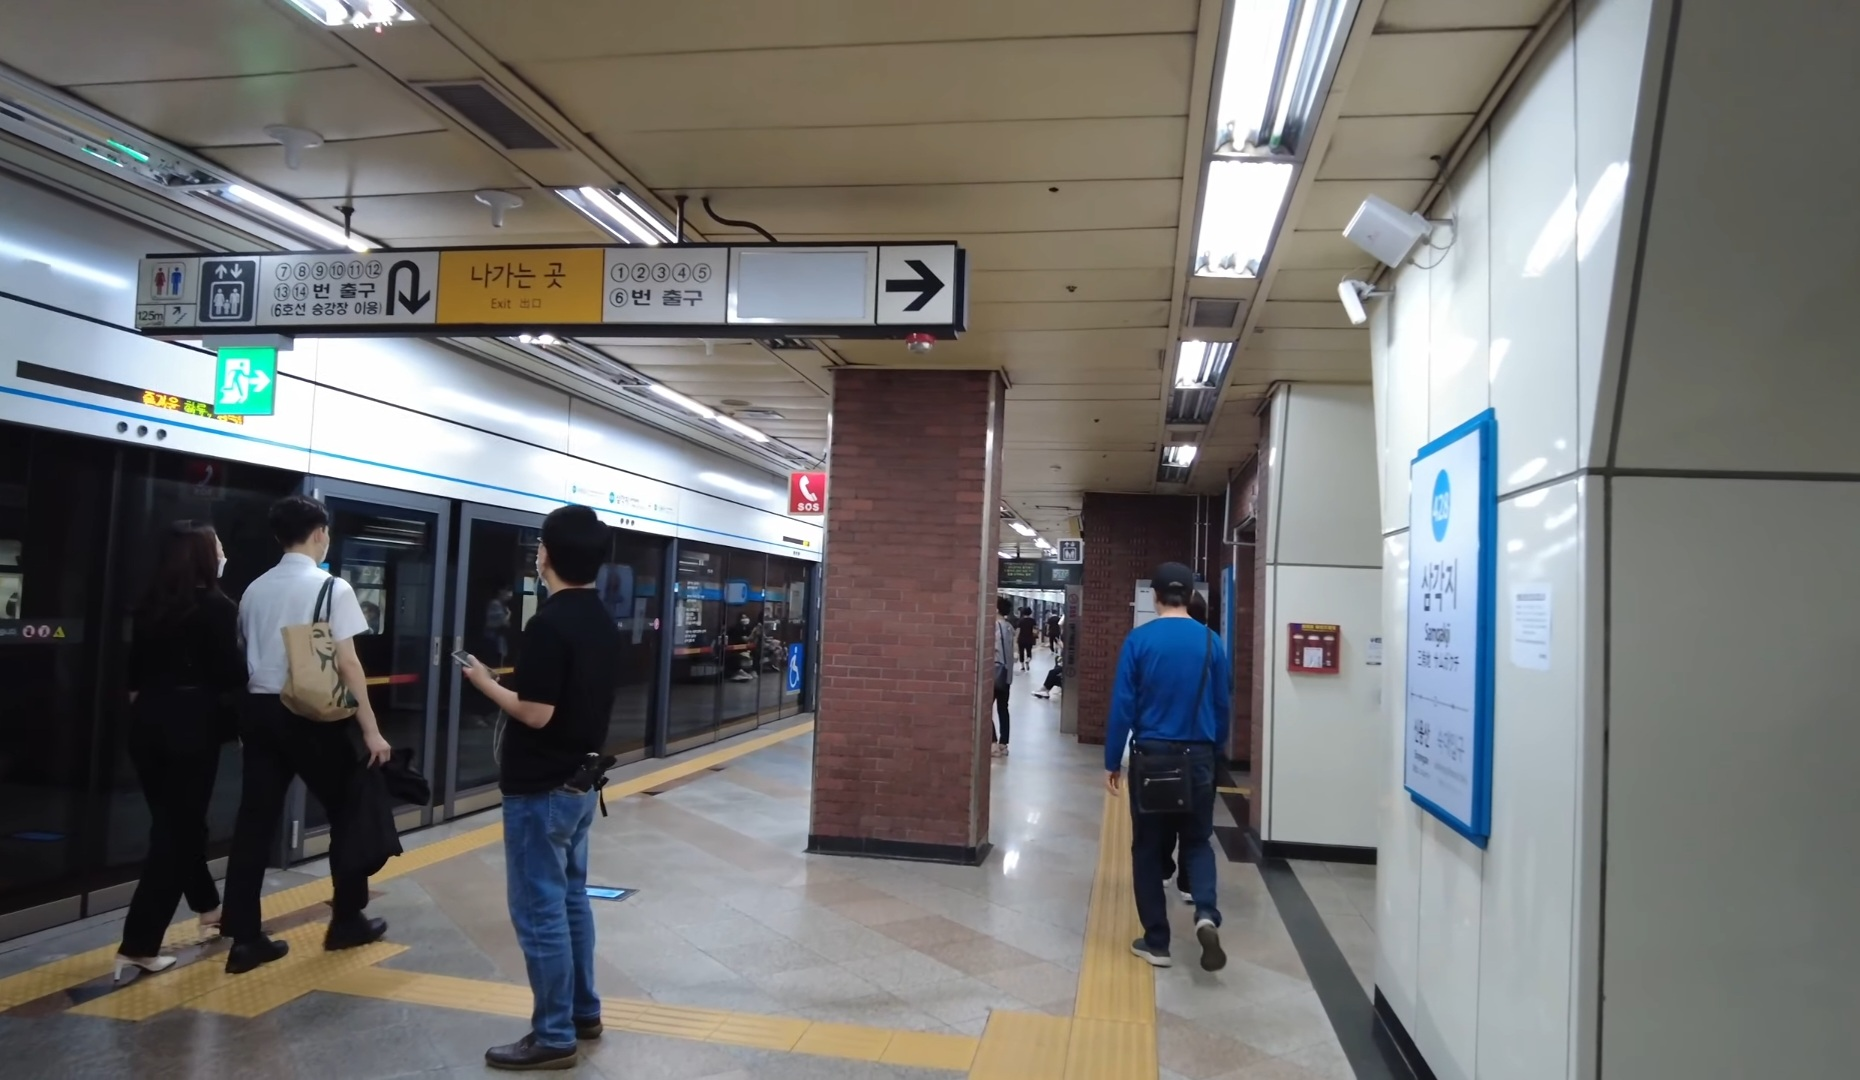signBoard: (123, 177, 1031, 366)
